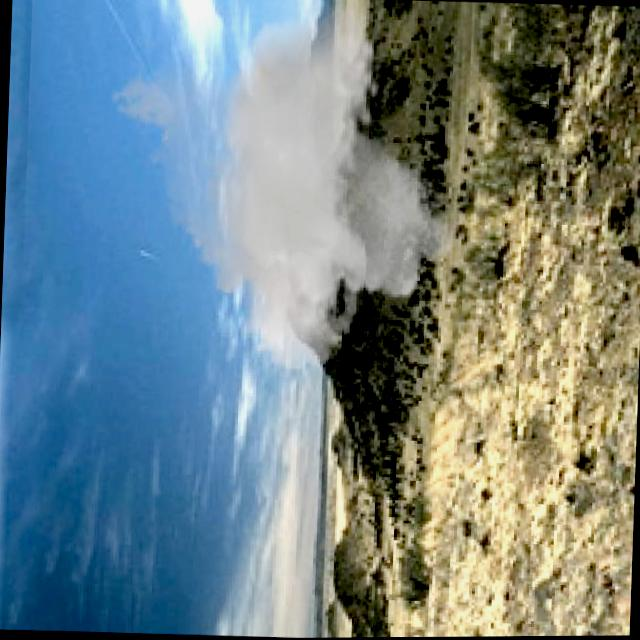Smoke: (98, 0, 474, 376)
